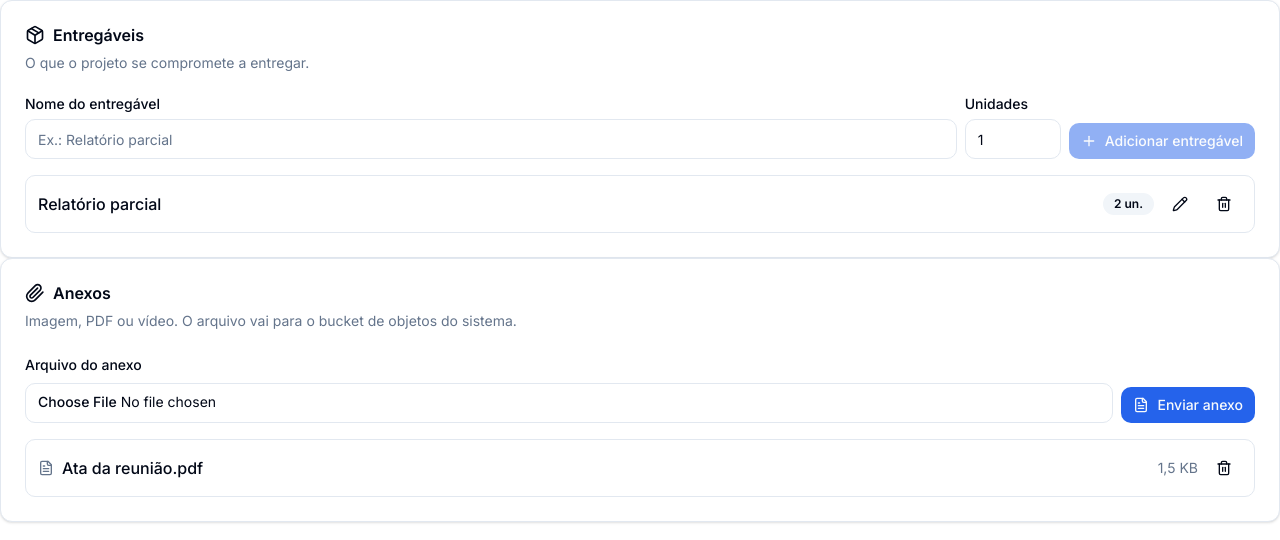
Test: painel de anexos › excluir anexo remove a linha
Expected: the link "Ata da reunião.pdf" is shown, [38,458,203,478]
Click the button named "Excluir Ata da reunião.pdf": (1224, 468) [1206,452,1242,484]
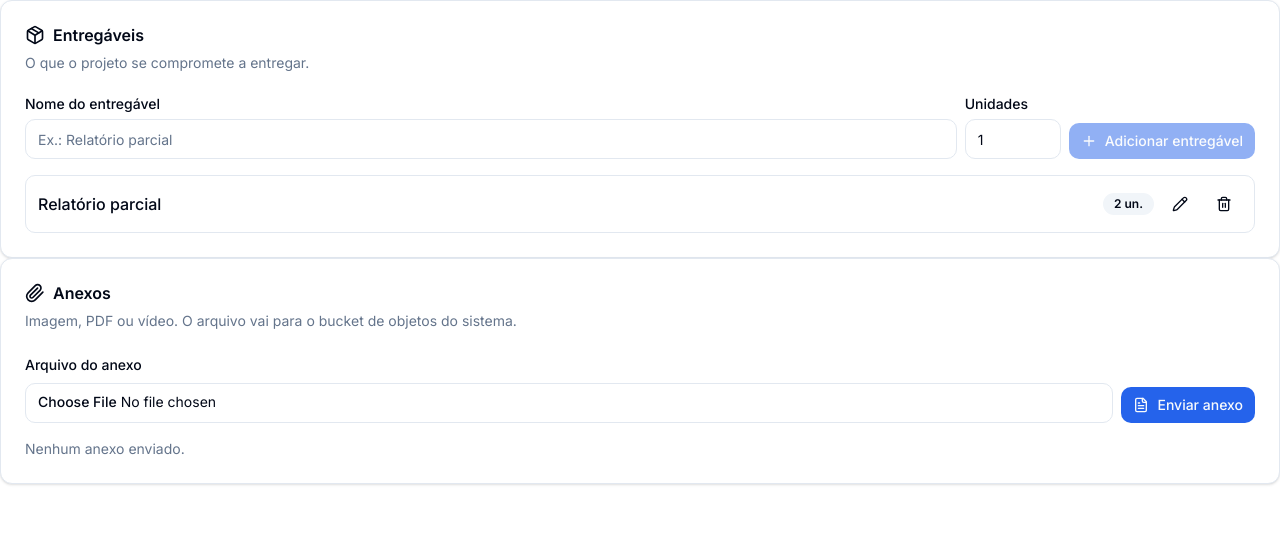
Expected: the text "Nenhum anexo enviado." is shown, [25,440,185,457]
